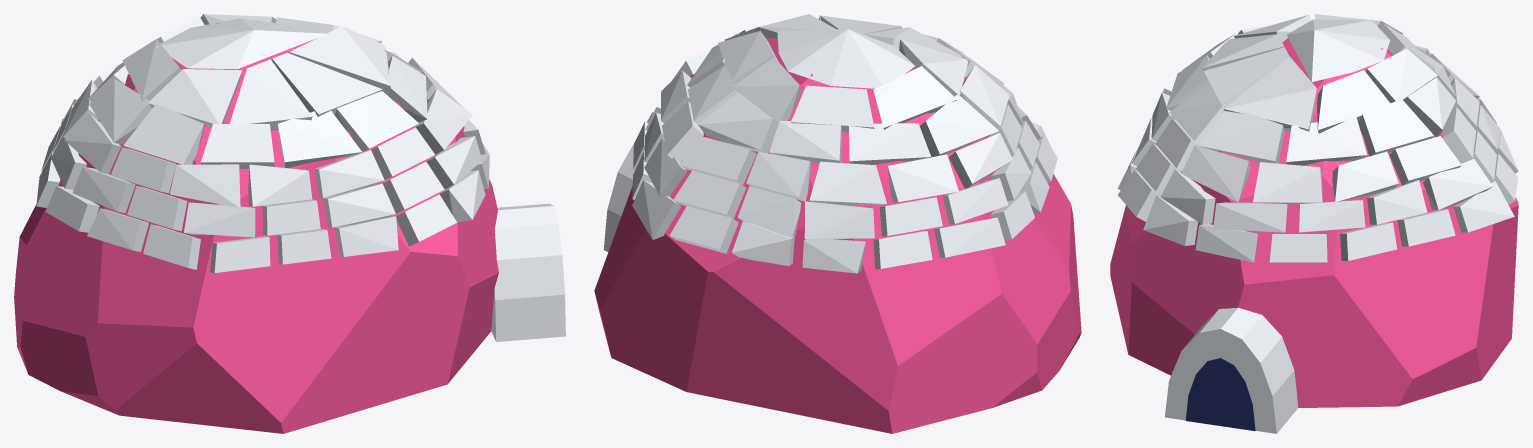
File: IglooBoulder_Split.fbx
3 renders of one model, left to right at view 1: azimuth 30°, elevation 25°; view 2: azimuth 150°, elevation 25°; view 3: azimuth 270°, elevation 25°, orthographic. The views are drawn at different scales.
Parts seen in each view (by area): view 1: IglooBoulder_PieceA, IglooBoulder_Bricks_L, IglooBoulder_Bricks_R, IglooBoulder_PieceB, IglooBoulder_Door; view 2: IglooBoulder_PieceA, IglooBoulder_Bricks_L, IglooBoulder_Bricks_R, IglooBoulder_PieceB, IglooBoulder_Door; view 3: IglooBoulder_Bricks_R, IglooBoulder_PieceB, IglooBoulder_Door, IglooBoulder_Bricks_L, IglooBoulder_Door_Hole, IglooBoulder_PieceA.
Boxes of the visible parts, bbox=[...] form: IglooBoulder_PieceA: bbox=[14, 23, 359, 433]; IglooBoulder_Bricks_L: bbox=[36, 14, 354, 272]; IglooBoulder_Bricks_R: bbox=[200, 14, 489, 255]; IglooBoulder_PieceB: bbox=[218, 23, 498, 410]; IglooBoulder_Door: bbox=[491, 203, 565, 341]; IglooBoulder_PieceA: bbox=[741, 59, 1081, 433]; IglooBoulder_Bricks_L: bbox=[740, 27, 1057, 273]; IglooBoulder_Bricks_R: bbox=[632, 14, 901, 258]; IglooBoulder_PieceB: bbox=[594, 38, 812, 403]; IglooBoulder_Door: bbox=[603, 144, 634, 251]; IglooBoulder_Bricks_R: bbox=[1117, 30, 1518, 262]; IglooBoulder_PieceB: bbox=[1118, 48, 1518, 407]; IglooBoulder_Door: bbox=[1165, 307, 1298, 433]; IglooBoulder_Bricks_L: bbox=[1137, 14, 1515, 163]; IglooBoulder_Door_Hole: bbox=[1185, 358, 1255, 430]; IglooBoulder_PieceA: bbox=[1110, 38, 1393, 311].
Size of the model in its own units: 31.25 by 18.89 by 24.76.
